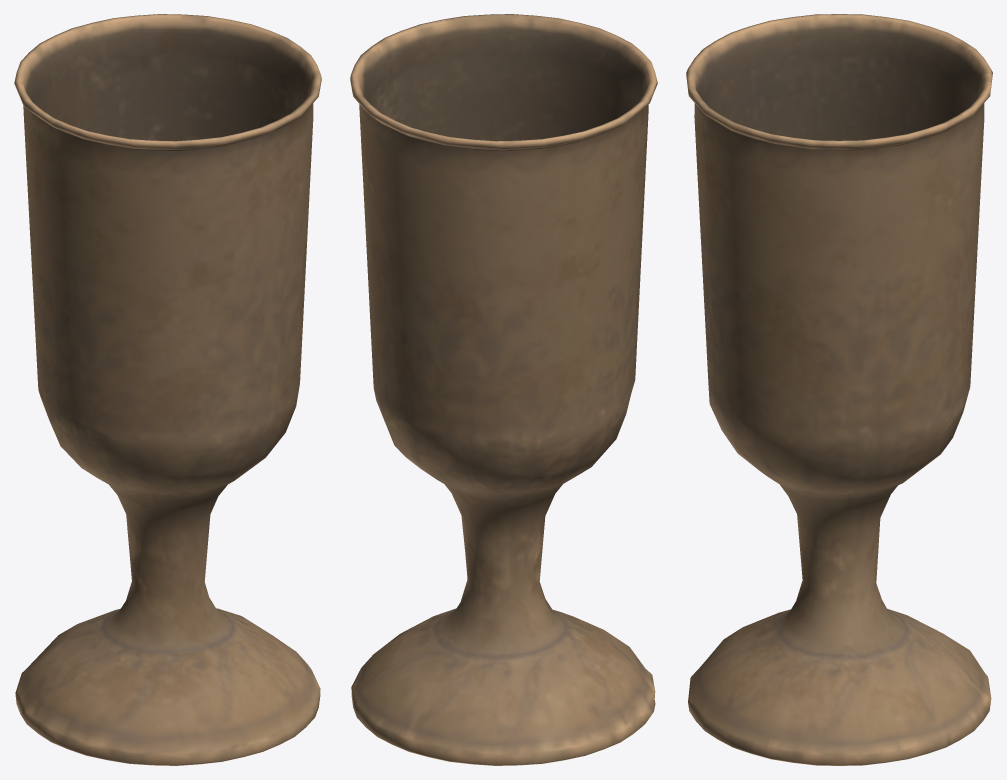
The model's file is SM_Prop_Chalice_A.fbx.
The picture shows the model from 3 angles, left to right: view 1: azimuth 30°, elevation 25°; view 2: azimuth 150°, elevation 25°; view 3: azimuth 270°, elevation 25°; orthographic projection.
Parts seen in each view (by area): view 1: SM_Prop_Chalice_A_LOD0; view 2: SM_Prop_Chalice_A_LOD0; view 3: SM_Prop_Chalice_A_LOD0.
Part boxes in pixels (x1,y1,x2,y2): SM_Prop_Chalice_A_LOD0: (14,14,321,765); SM_Prop_Chalice_A_LOD0: (350,14,657,765); SM_Prop_Chalice_A_LOD0: (686,14,992,765).
Bounding box in the file's own units: 6.32 × 6.32 × 14.19.
1 material, 1 textured.
